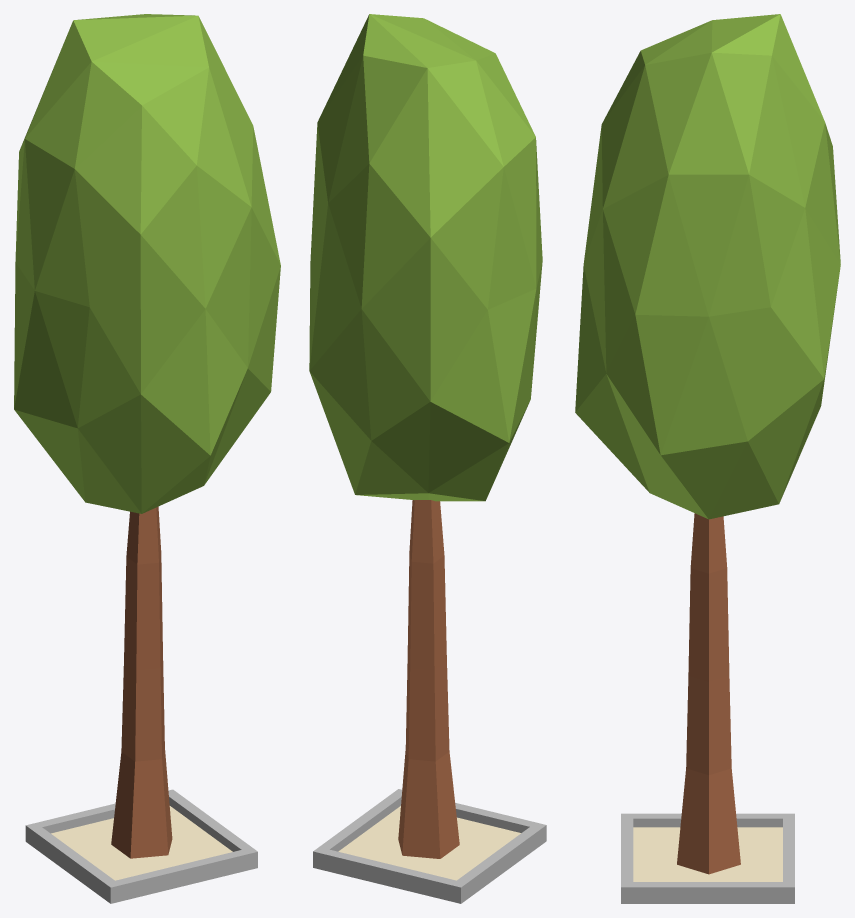
The model's file is tree.glb.
The picture shows the model from 3 angles, left to right: view 1: azimuth 30°, elevation 25°; view 2: azimuth 150°, elevation 25°; view 3: azimuth 270°, elevation 25°; orthographic projection. The views are drawn at different scales.
Parts seen in each view (by area): view 1: Tree_2_Mat_0; view 2: Tree_2_Mat_0; view 3: Tree_2_Mat_0.
Boxes of the visible parts, bbox=[...] form: Tree_2_Mat_0: bbox=[14, 14, 280, 903]; Tree_2_Mat_0: bbox=[309, 14, 546, 903]; Tree_2_Mat_0: bbox=[575, 14, 840, 903].
Bounding box in the file's own units: 2.13 × 7.87 × 2.25.
Materials: 1 (1 with a texture image).
